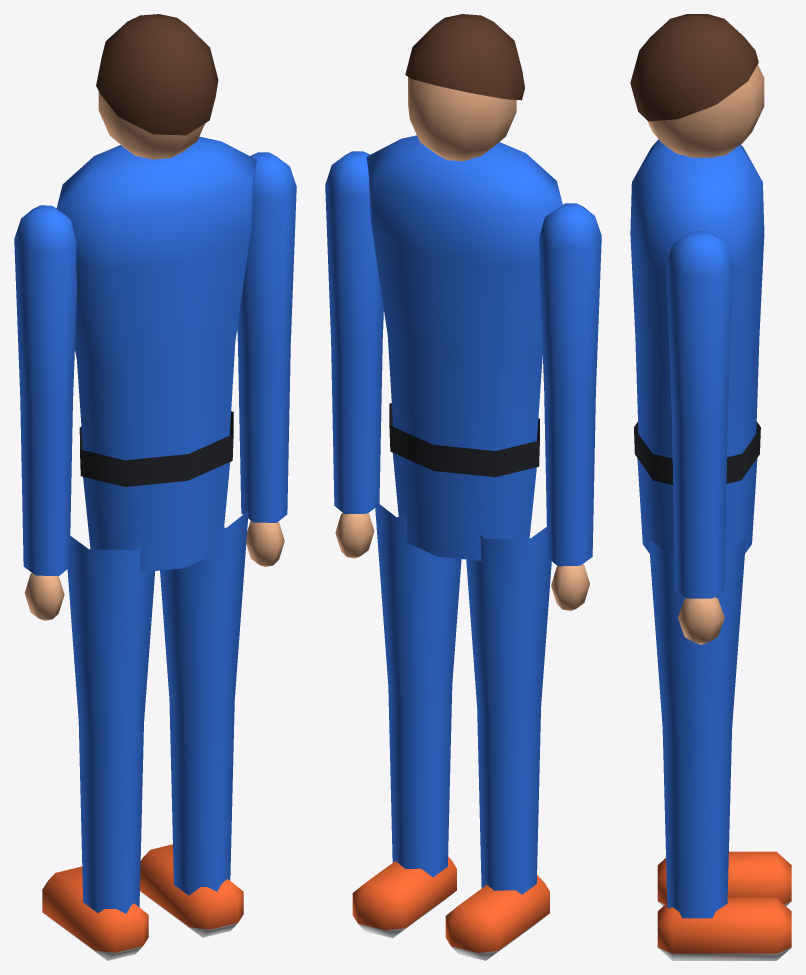
The model's file is personnage_loin_v001.glb.
3 renders of one model, left to right at view 1: azimuth 30°, elevation 25°; view 2: azimuth 150°, elevation 25°; view 3: azimuth 270°, elevation 25°, orthographic. The views are drawn at different scales.
Visible parts, largest first — view 1: personnage_loin; view 2: personnage_loin; view 3: personnage_loin.
Boxes of the visible parts, box(x1,y1,x2,y2) form: personnage_loin: box(14, 14, 296, 960); personnage_loin: box(325, 14, 601, 960); personnage_loin: box(630, 14, 791, 960).
Bounding box in the file's own units: 0.6149 × 2.03 × 0.3252.
